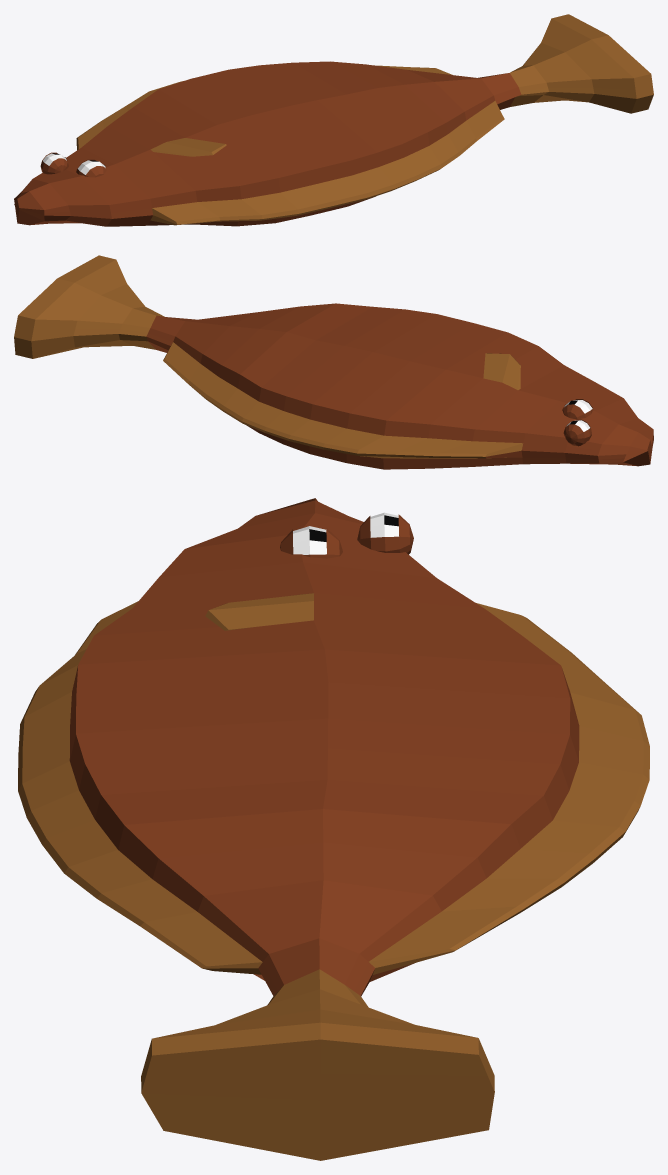
Rendered from Lenguao.fbx.
The picture shows the model from 3 angles, top to bottom: view 1: azimuth 30°, elevation 25°; view 2: azimuth 150°, elevation 25°; view 3: azimuth 270°, elevation 25°; orthographic projection. The views are drawn at different scales.
Visible parts, largest first — view 1: Lenguao; view 2: Lenguao; view 3: Lenguao.
Boxes of the visible parts, left/top/right/bottom form: Lenguao: left=14, top=14, right=653, bottom=226; Lenguao: left=14, top=255, right=653, bottom=469; Lenguao: left=18, top=498, right=649, bottom=1160.
Bounding box in the file's own units: 605 × 71.62 × 280.
